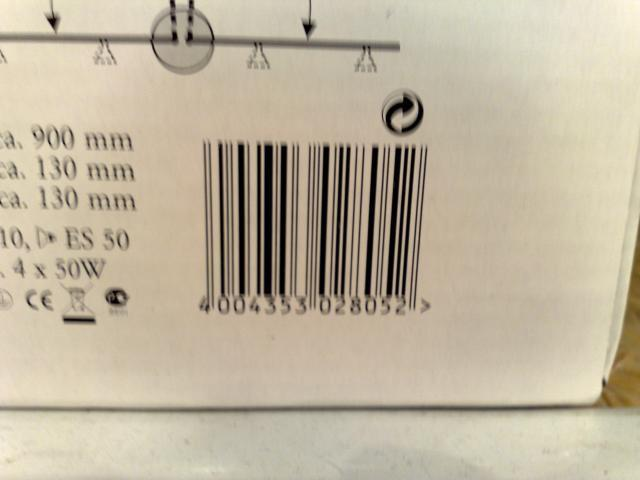Barcode: (181, 132, 442, 330)
